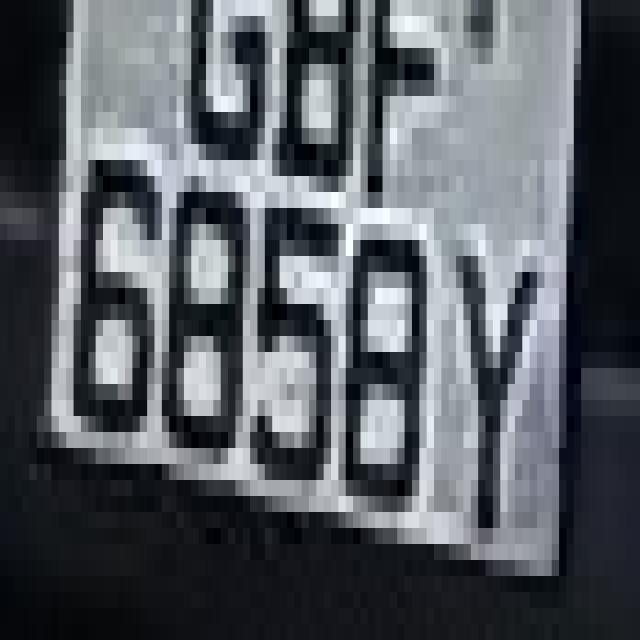5: (258, 128, 324, 512)
6: (52, 112, 154, 496)
8: (331, 208, 434, 592), (154, 128, 243, 528)
Y: (434, 192, 544, 608)
